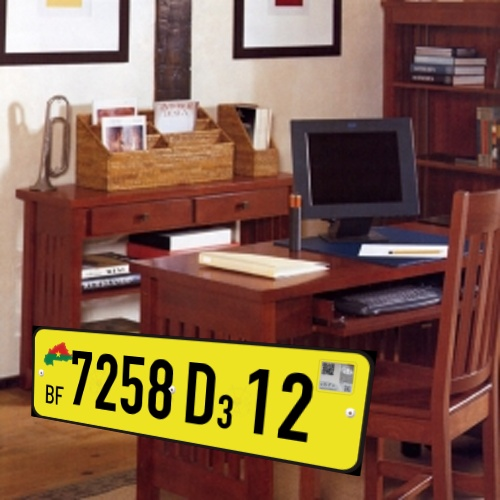plate: (21, 312, 387, 489)
